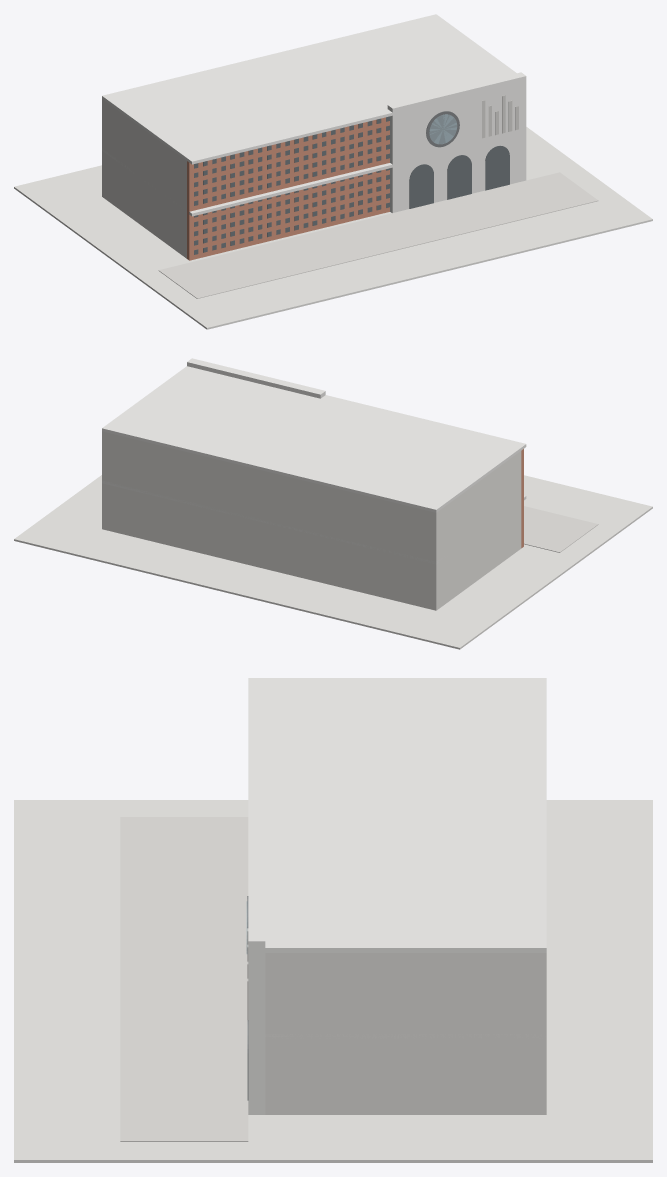
Rendered from two-storey-mosque.glb.
3 renders of one model, top to bottom at view 1: azimuth 30°, elevation 25°; view 2: azimuth 150°, elevation 25°; view 3: azimuth 270°, elevation 25°, orthographic. The views are drawn at different scales.
Visible parts, largest first — view 1: roof-white, site-site, site-paving, floor-1-brick, floor-0-brick, floor-1-offwhite, floor-0-offwhite, floor-1-interior, roof-interior, floor-0-interior, floor-1-white, roof-dark (+2 smaller); view 2: roof-white, site-site, floor-1-offwhite, floor-0-offwhite, site-paving, floor-1-white; view 3: site-site, roof-white, site-paving, floor-0-offwhite, floor-1-offwhite.
Part boxes in pixels (bbox=[...]): roof-white: bbox=[102, 14, 526, 212]; site-site: bbox=[14, 127, 652, 329]; site-paving: bbox=[158, 172, 598, 298]; floor-1-brick: bbox=[187, 117, 389, 211]; floor-0-brick: bbox=[187, 169, 389, 260]; floor-1-offwhite: bbox=[102, 99, 186, 209]; floor-0-offwhite: bbox=[102, 148, 186, 258]; floor-1-interior: bbox=[194, 116, 390, 205]; roof-interior: bbox=[409, 145, 509, 208]; floor-0-interior: bbox=[194, 168, 390, 254]; floor-1-white: bbox=[102, 132, 526, 216]; roof-dark: bbox=[426, 111, 459, 147]; roof-white: bbox=[102, 358, 526, 512]; site-site: bbox=[14, 475, 652, 649]; floor-1-offwhite: bbox=[102, 431, 521, 561]; floor-0-offwhite: bbox=[102, 480, 521, 610]; site-paving: bbox=[524, 506, 598, 552]; floor-1-white: bbox=[102, 480, 526, 563]; site-site: bbox=[14, 800, 652, 1162]; roof-white: bbox=[248, 678, 546, 1114]; site-paving: bbox=[120, 817, 248, 1141]; floor-0-offwhite: bbox=[265, 1034, 546, 1114]; floor-1-offwhite: bbox=[265, 953, 546, 1033].
Size of the model in its own units: 40 by 9.15 by 30.
